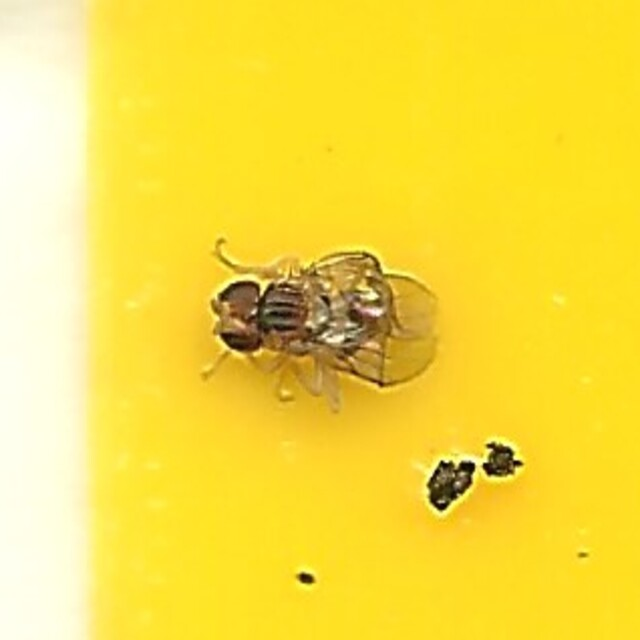Brachycera: (201, 236, 439, 404)
